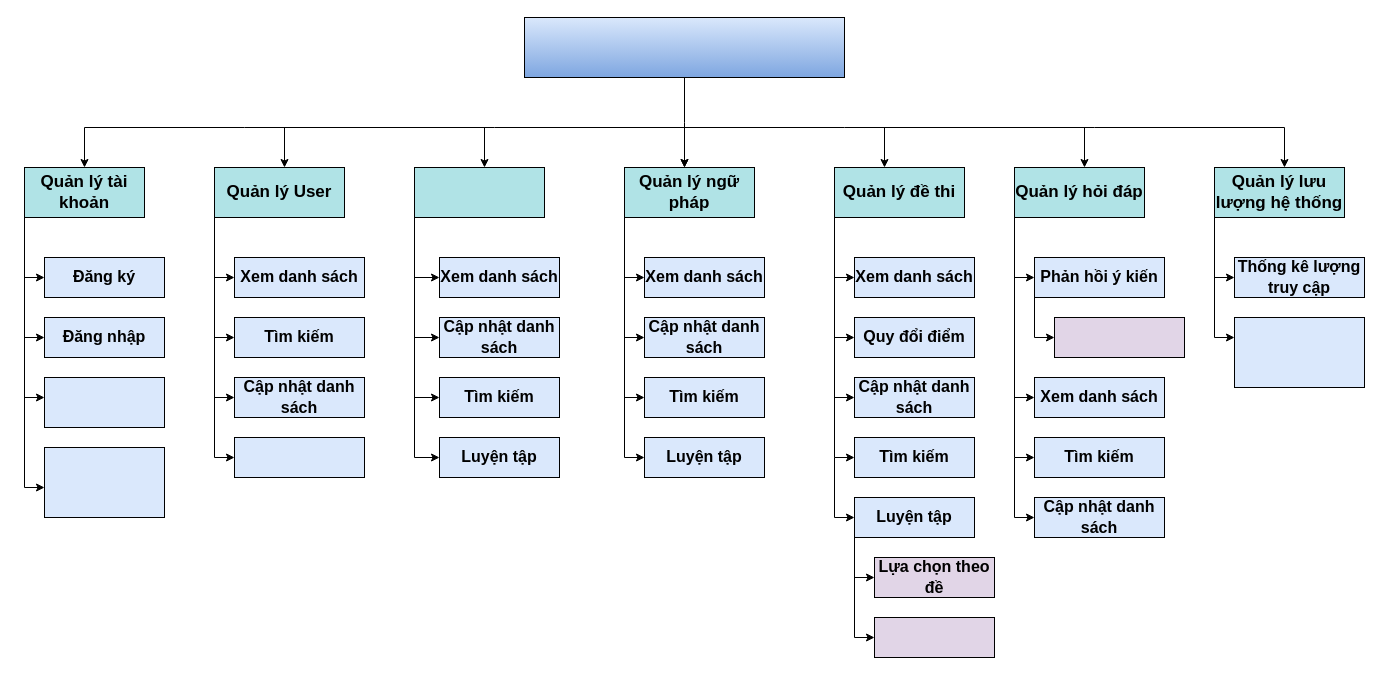
Some shapes in this 1382 by 675 pixel diagram are drawn without their labels. Each missing label, with the centre of its shape:
Cập nhật phần mềm: [299,457]
Gửi Chat/Email: [1119,337]
Lựa chọn theo part: [934,637]
Quản Lý Luyện Tập Tiếng Anh Online: [684,47]
Quản lý từ vựng: [479,192]
Thay đổi thông tin tài khoản: [104,482]
Theo dõi tài khoản: [104,402]
Thống kê lượng tham gia luyện tập: [1299,352]
